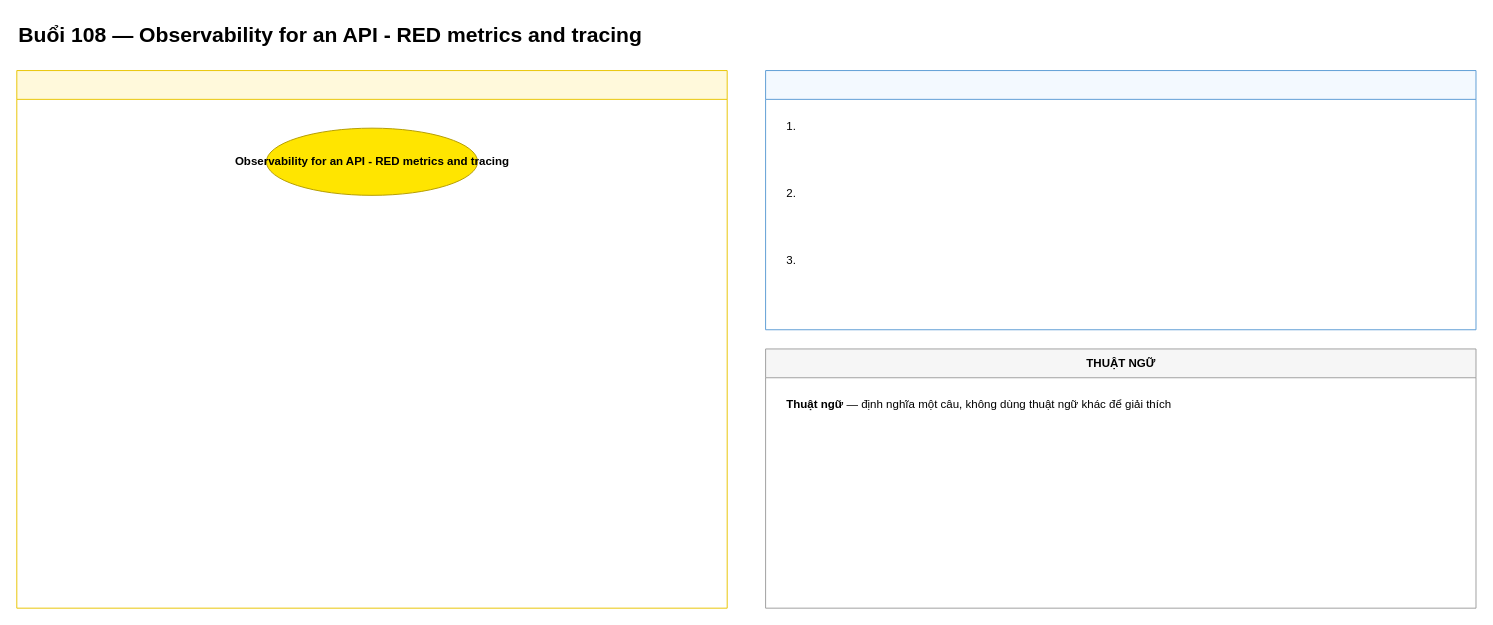
This 1493x625 diagram has some shape labels left out. The box of each missing label's shape, as (x1, y1, x2, y2) in pixels:
KEY TAKEAWAY — ba điều phải nhớ: (765, 70, 1476, 330)
MINDMAP: (16, 70, 727, 608)
